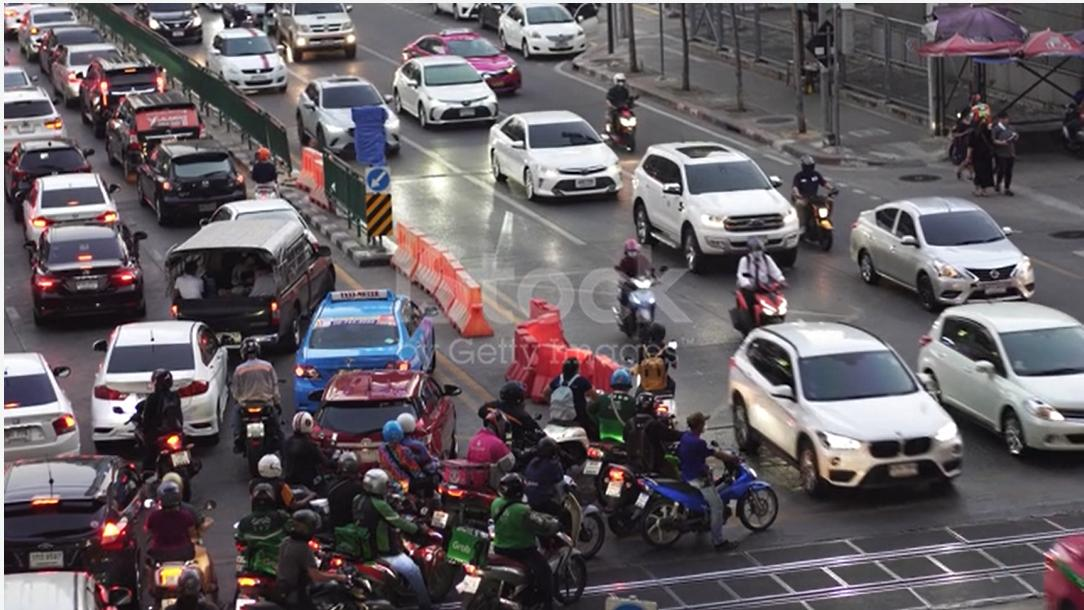car: (711, 305, 986, 525), (913, 279, 1084, 470), (625, 123, 810, 278), (841, 173, 1027, 309), (76, 309, 245, 456), (173, 221, 347, 360), (0, 458, 168, 580), (299, 281, 429, 420), (481, 109, 628, 209), (131, 125, 256, 237), (391, 13, 538, 98), (23, 211, 136, 317), (0, 334, 83, 475), (287, 61, 384, 157), (93, 85, 204, 165), (387, 53, 490, 134), (487, 0, 616, 64), (197, 13, 289, 98), (0, 68, 70, 174), (23, 171, 130, 233), (275, 0, 376, 52), (135, 0, 212, 46)
motorcycle: (635, 443, 804, 552), (450, 505, 610, 610), (139, 524, 222, 610), (605, 253, 680, 340), (140, 410, 211, 493), (727, 258, 805, 333), (233, 366, 281, 477), (587, 87, 656, 154), (802, 167, 846, 261)
